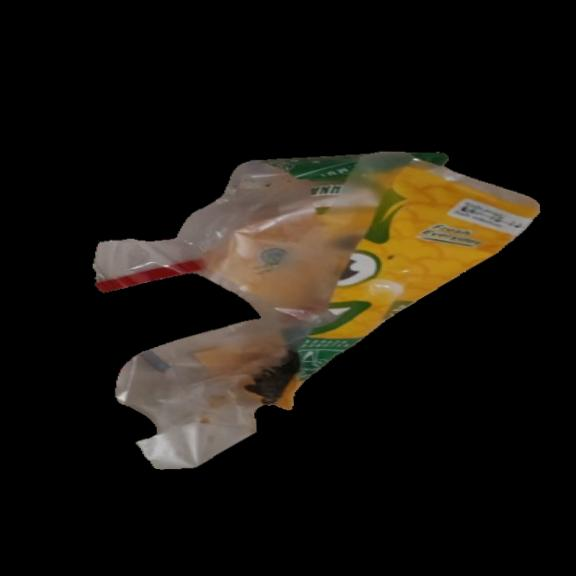Plastik: (83, 142, 560, 474)
